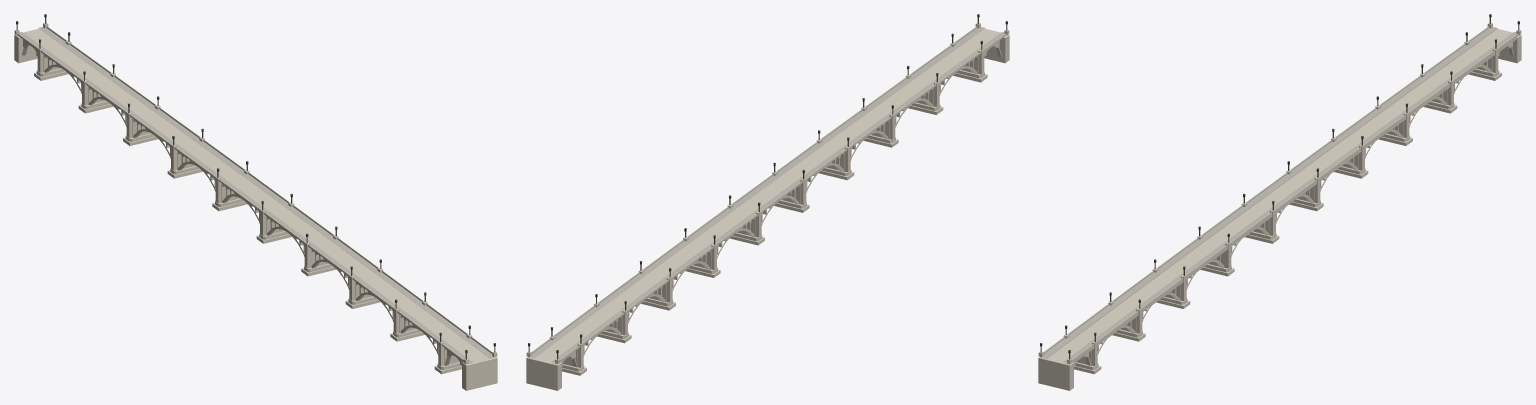
File: cola-gervais-street-bridge.glb
3 views of the same model, side by side, from view 1: azimuth 30°, elevation 25°; view 2: azimuth 150°, elevation 25°; view 3: azimuth 330°, elevation 25° (orthographic).
Visible parts, largest first — view 1: Gervais Street Bridge; view 2: Gervais Street Bridge; view 3: Gervais Street Bridge.
Part boxes in pixels (bbox=[...]): Gervais Street Bridge: bbox=[14, 14, 497, 390]; Gervais Street Bridge: bbox=[526, 14, 1009, 390]; Gervais Street Bridge: bbox=[1038, 14, 1521, 390].
Bounding box in the file's own units: 18.8 × 20.74 × 430.
